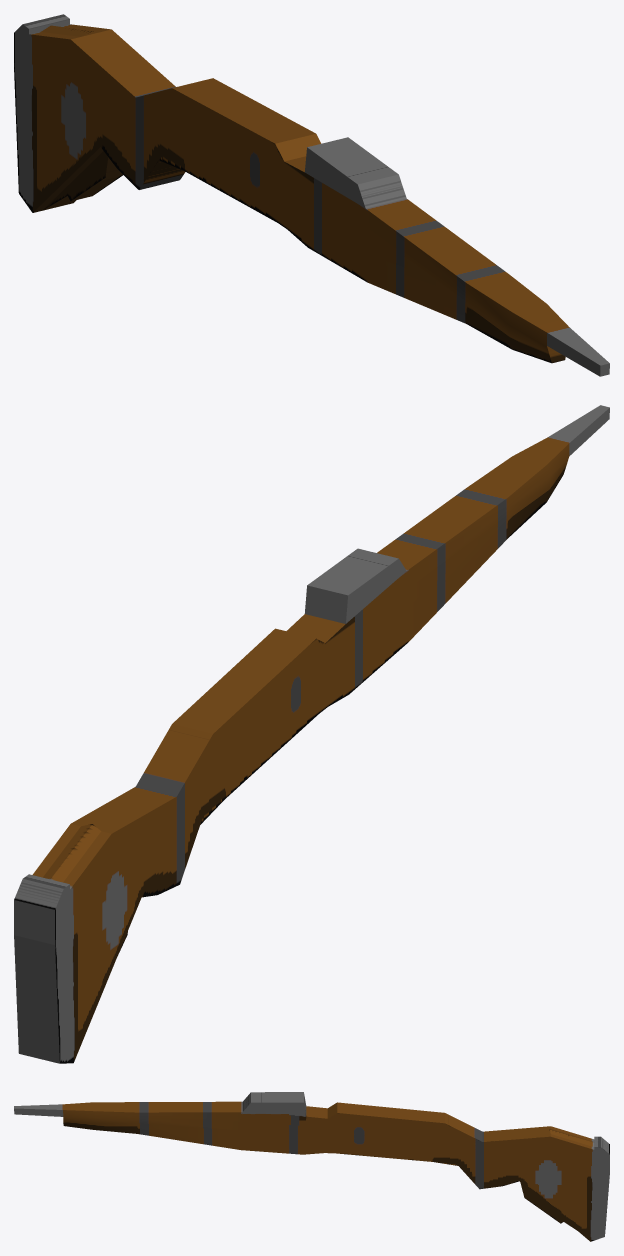
File: Kar98.fbx
3 renders of one model, top to bottom at view 1: azimuth 30°, elevation 25°; view 2: azimuth 150°, elevation 25°; view 3: azimuth 270°, elevation 25°, orthographic. The views are drawn at different scales.
Visible parts, largest first — view 1: Bit_Gun; view 2: Bit_Gun; view 3: Bit_Gun.
Boxes of the visible parts, x1,y1,x2,y2 form: Bit_Gun: (14,14,609,376); Bit_Gun: (14,405,609,1063); Bit_Gun: (14,1092,609,1241).
Size of the model in its own units: 1.36 by 8.46 by 32.79.
1 material, 1 textured.
